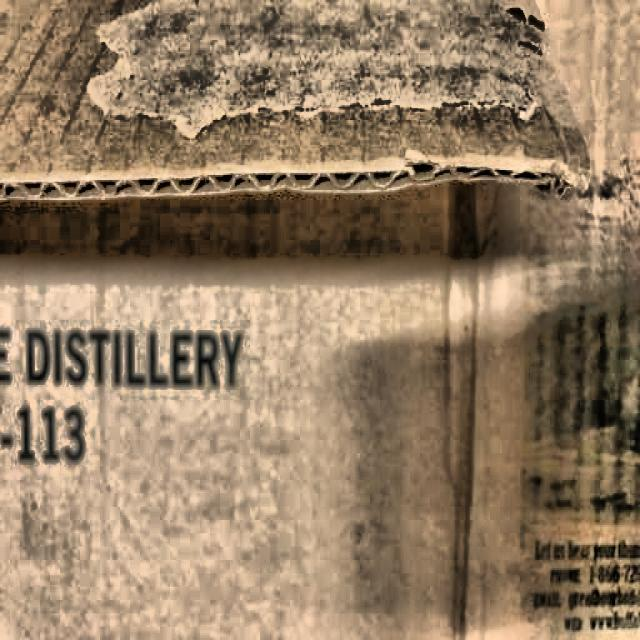cardboard: (7, 8, 634, 628)
